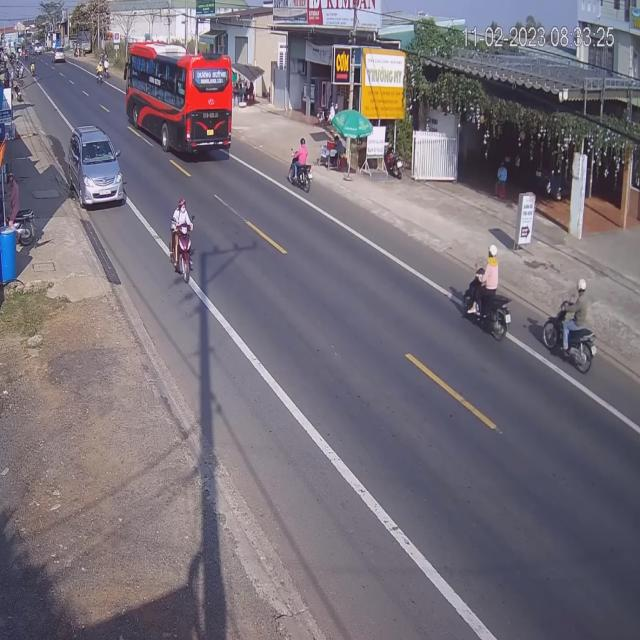bus: (128, 43, 237, 159)
car: (68, 128, 126, 212)
motorbike: (542, 283, 596, 377), (464, 245, 514, 342), (170, 199, 196, 283), (288, 139, 312, 197), (97, 59, 105, 84)
